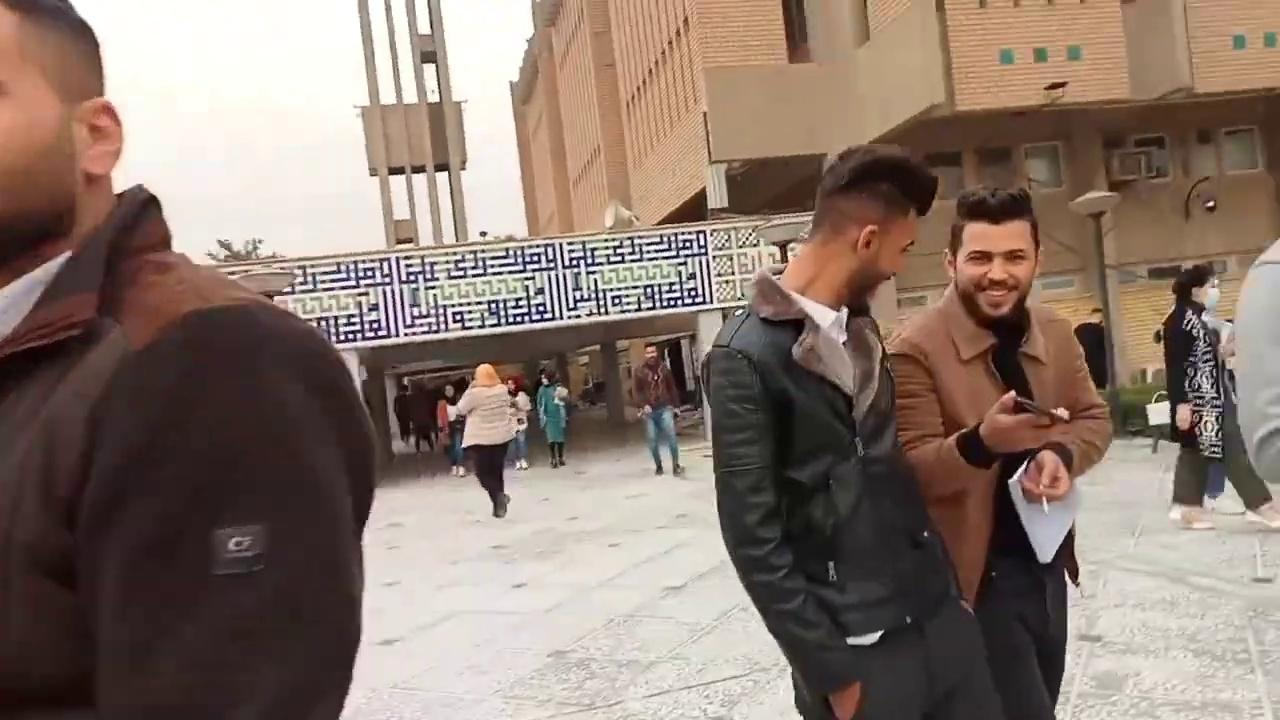person: (0, 0, 378, 719), (700, 144, 1008, 719), (884, 184, 1113, 718), (1161, 263, 1226, 529), (1229, 237, 1279, 527), (454, 366, 521, 516), (628, 341, 685, 476), (530, 371, 571, 471)
tree: (204, 236, 284, 263)
